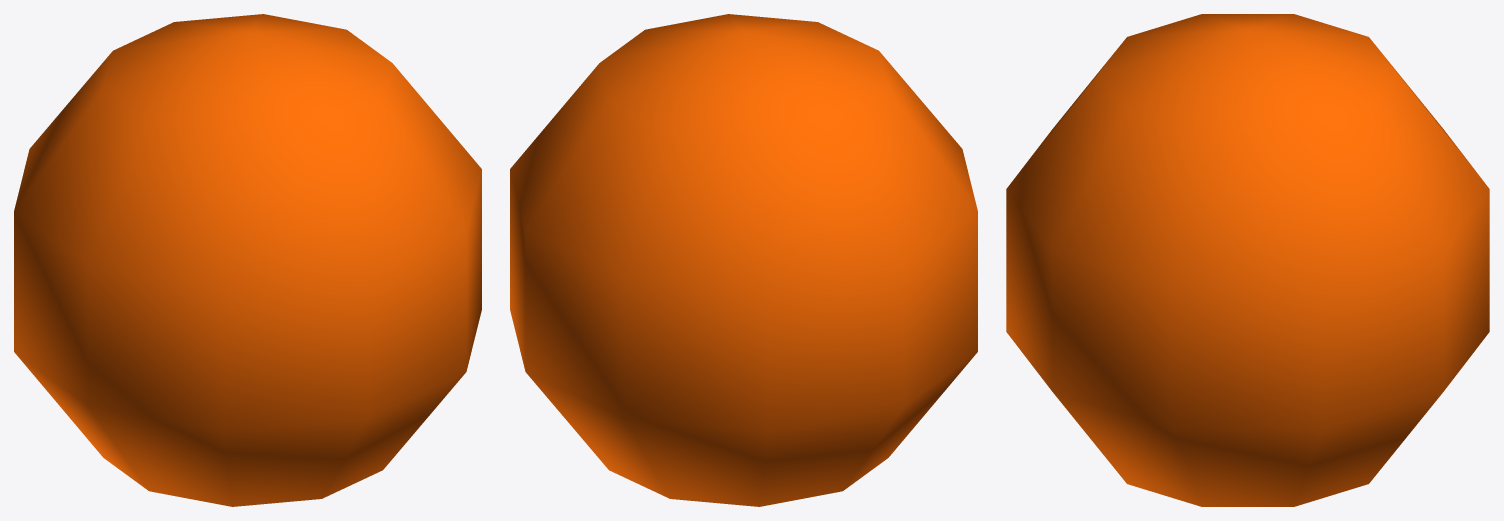
File: Player4.FBX
The picture shows the model from 3 angles, left to right: view 1: azimuth 30°, elevation 25°; view 2: azimuth 150°, elevation 25°; view 3: azimuth 270°, elevation 25°; orthographic projection.
Parts seen in each view (by area): view 1: Sphere001; view 2: Sphere001; view 3: Sphere001.
Part boxes in pixels (<box>): Sphere001: <box>14,14,481,506</box>; Sphere001: <box>510,14,977,506</box>; Sphere001: <box>1006,14,1489,506</box>.
Bounding box in the file's own units: 0.9045 × 1 × 0.9511.
